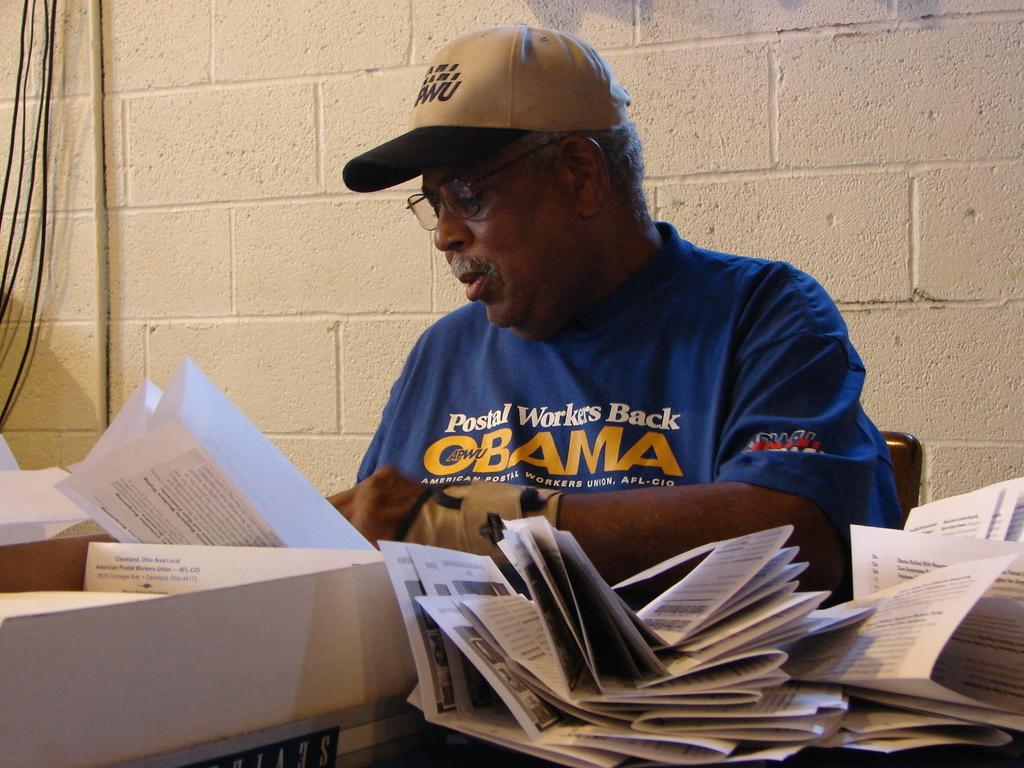Hat: (342, 20, 633, 192)
